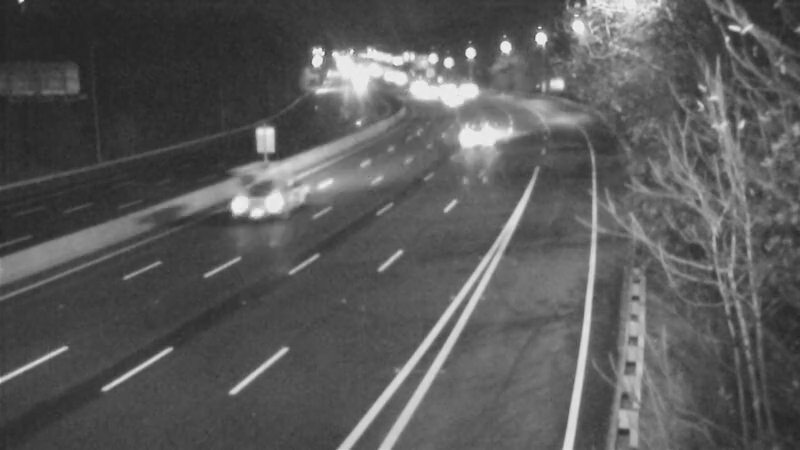vehicle: (209, 155, 289, 235), (393, 62, 443, 112), (443, 66, 493, 116), (402, 70, 452, 120), (427, 77, 477, 127), (449, 108, 499, 158)
